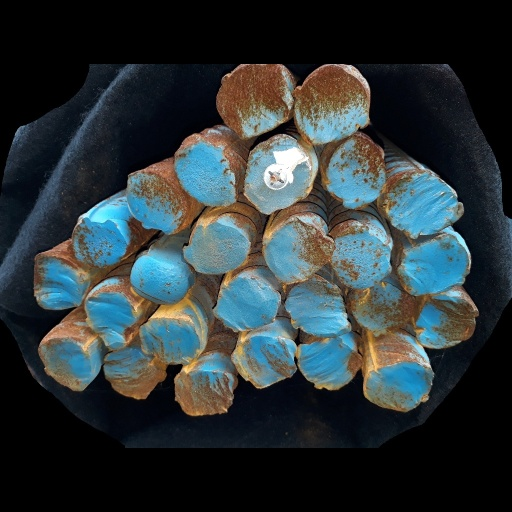dipstick: (296, 65, 369, 143), (216, 64, 292, 138), (245, 134, 310, 212), (385, 174, 463, 236), (398, 233, 470, 294), (263, 220, 333, 281), (174, 140, 238, 205), (327, 140, 383, 208), (284, 280, 348, 337), (364, 362, 434, 411), (127, 170, 181, 232), (233, 336, 297, 388), (214, 280, 280, 329), (186, 222, 248, 273), (298, 340, 361, 390), (417, 297, 477, 349), (105, 349, 166, 399), (333, 236, 392, 286), (350, 285, 412, 332), (131, 255, 188, 306), (39, 337, 91, 391), (33, 256, 83, 309), (139, 318, 199, 362), (174, 369, 232, 414), (87, 294, 137, 346), (73, 217, 127, 262)
